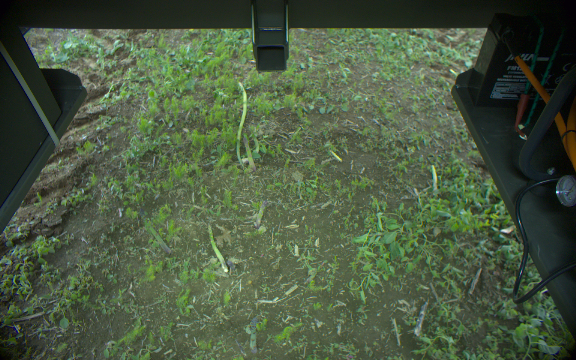aspa: (229, 79, 249, 171), (136, 208, 171, 257), (204, 223, 232, 273), (240, 131, 255, 172), (252, 198, 270, 226), (248, 315, 259, 354)
